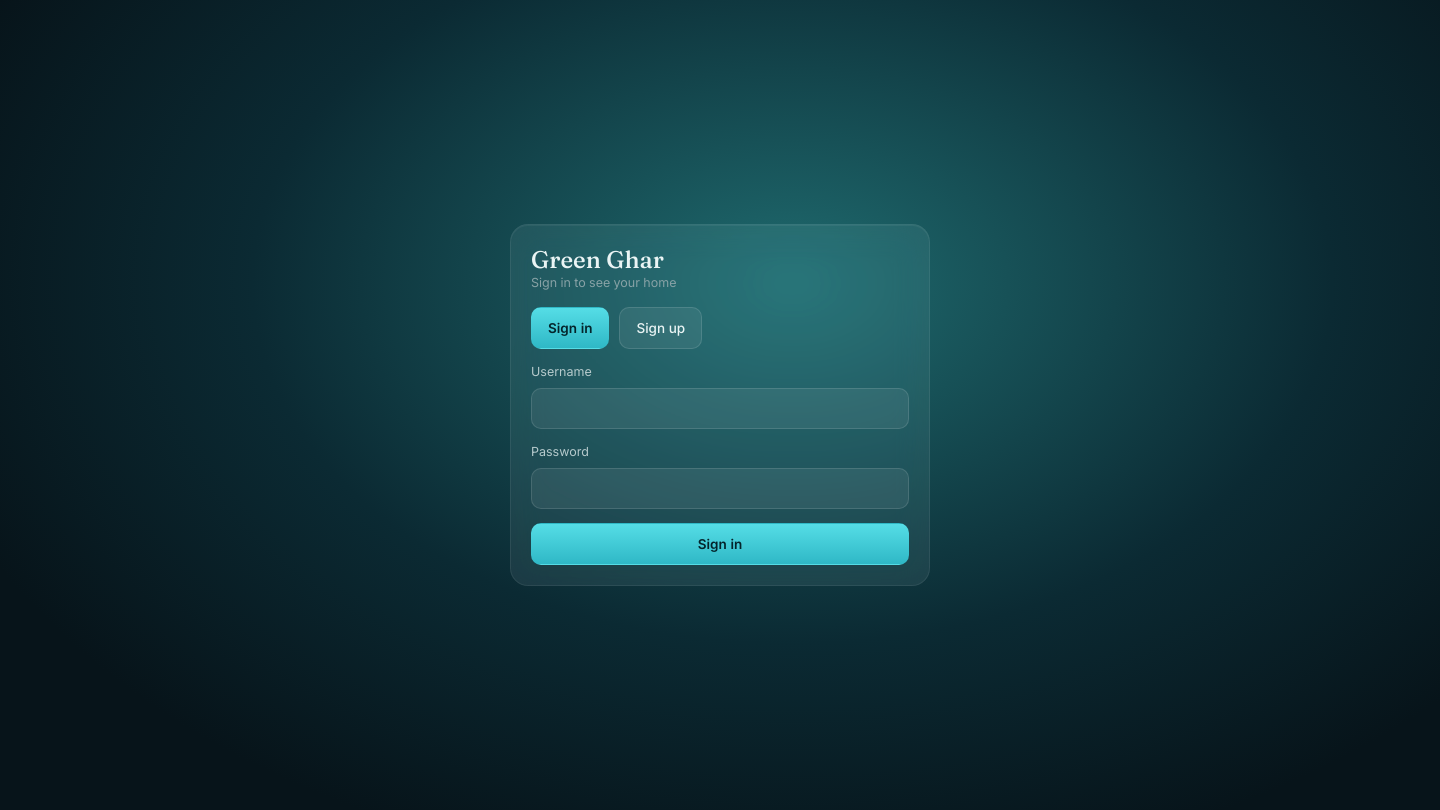
Test: shows a sign-in failure message
This screenshot has width=1440, height=810.
Type "asha" into the field labelled "Username".
click(720, 408); type("asha")  # box [531,388,909,429]
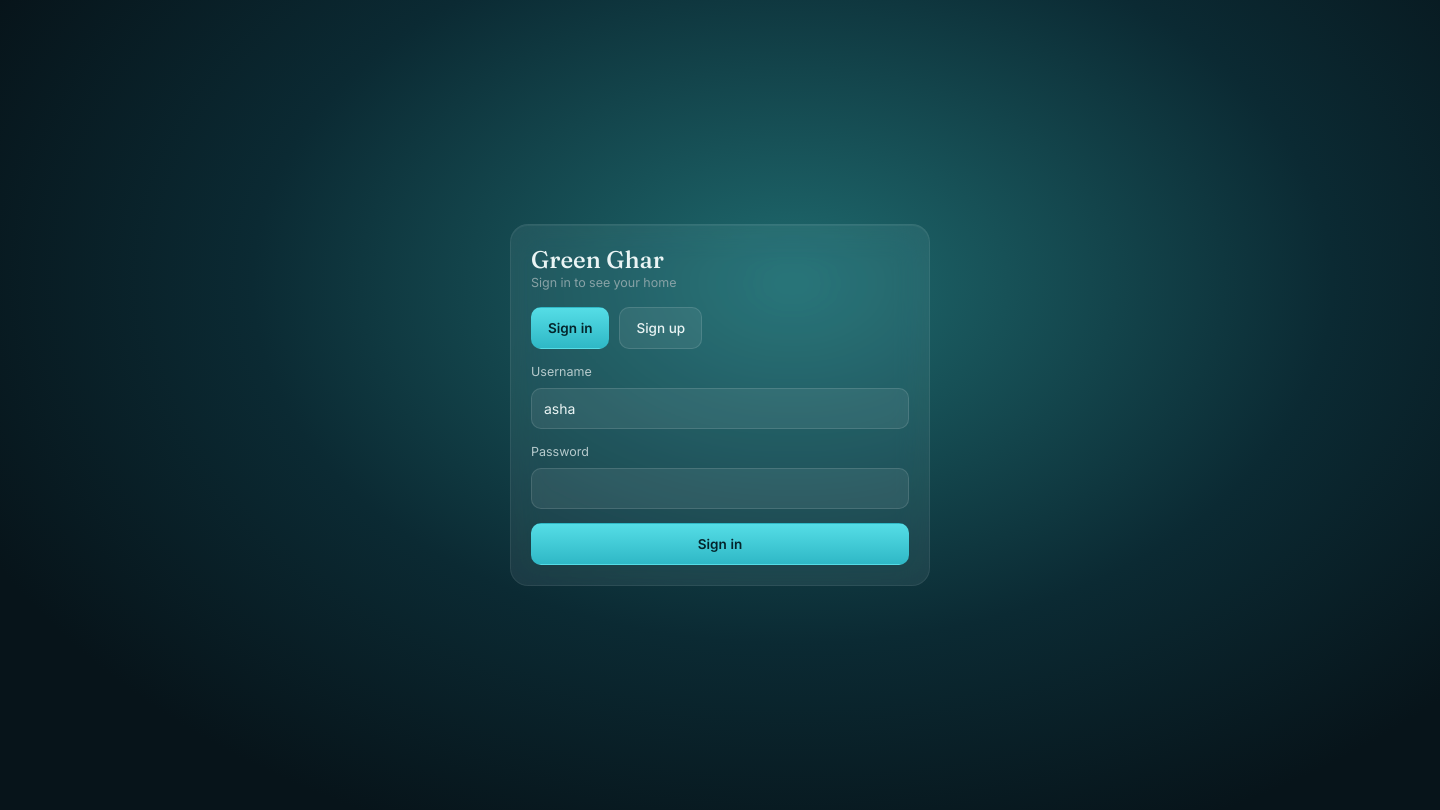
Type "nope12345" into the password field labelled "Password".
click(720, 488); type("nope12345")  # box [531,468,909,509]
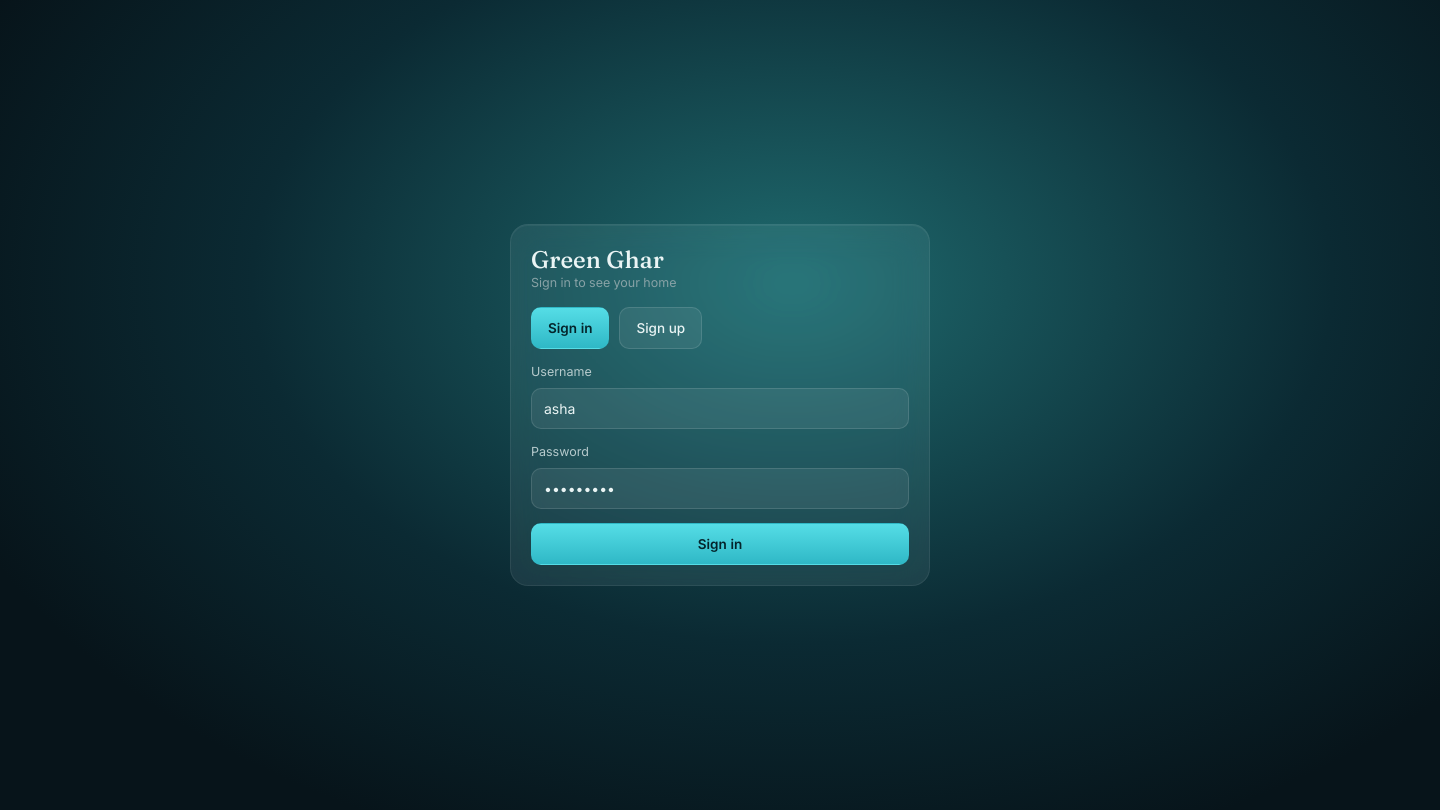
Submit the form labelled "Username", box [510,224,930,586]
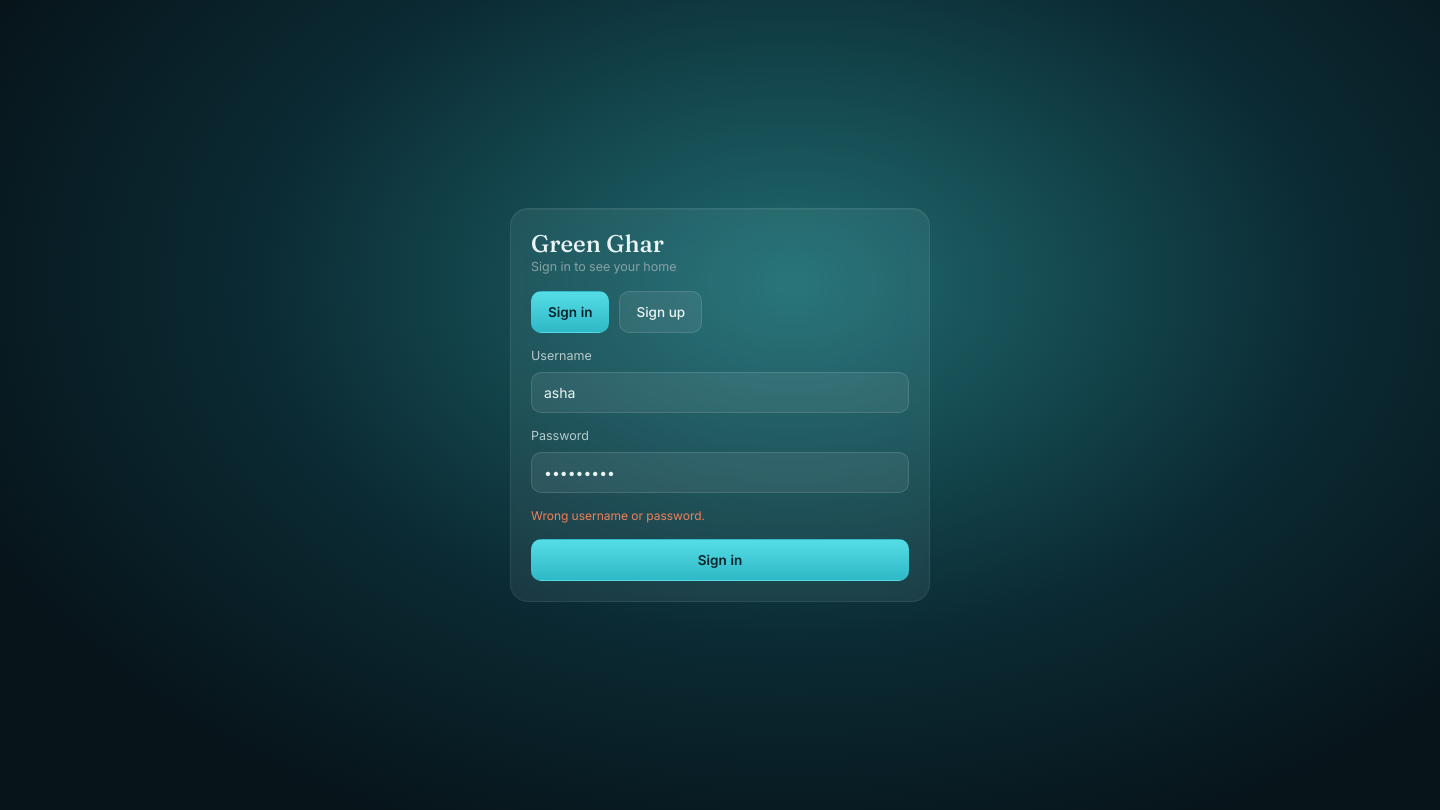
Expected: the message reads "Wrong username or password.", [531,508,705,523]
